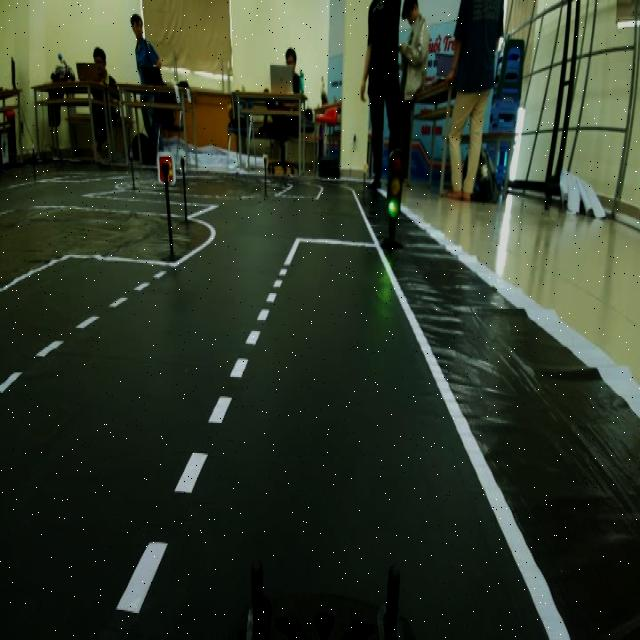trafficlight: (378, 140, 406, 262)
